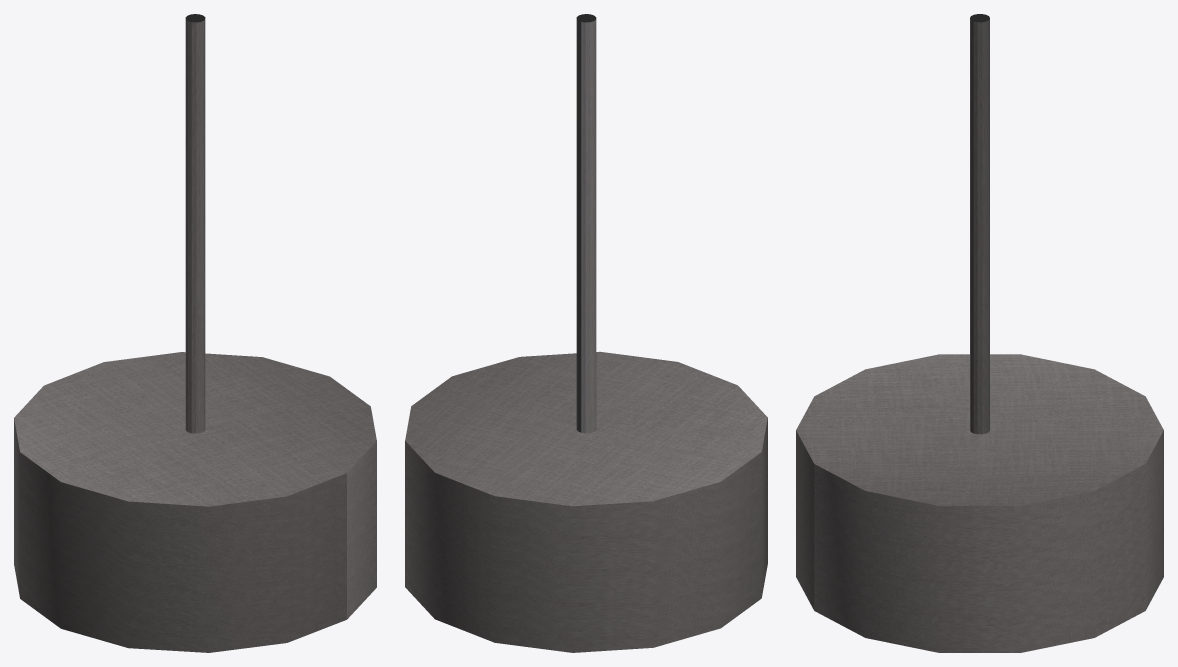
File: lamp.fbx
The picture shows the model from 3 angles, left to right: view 1: azimuth 30°, elevation 25°; view 2: azimuth 150°, elevation 25°; view 3: azimuth 270°, elevation 25°; orthographic projection.
Parts seen in each view (by area): view 1: Cylinder; view 2: Cylinder; view 3: Cylinder.
Part boxes in pixels (left/top/right/bottom): Cylinder: left=14, top=14, right=376, bottom=652; Cylinder: left=405, top=14, right=767, bottom=652; Cylinder: left=796, top=14, right=1163, bottom=652.
Bounding box in the file's own units: 1935 × 3328 × 1985.
Materials: 3 (2 with a texture image).
